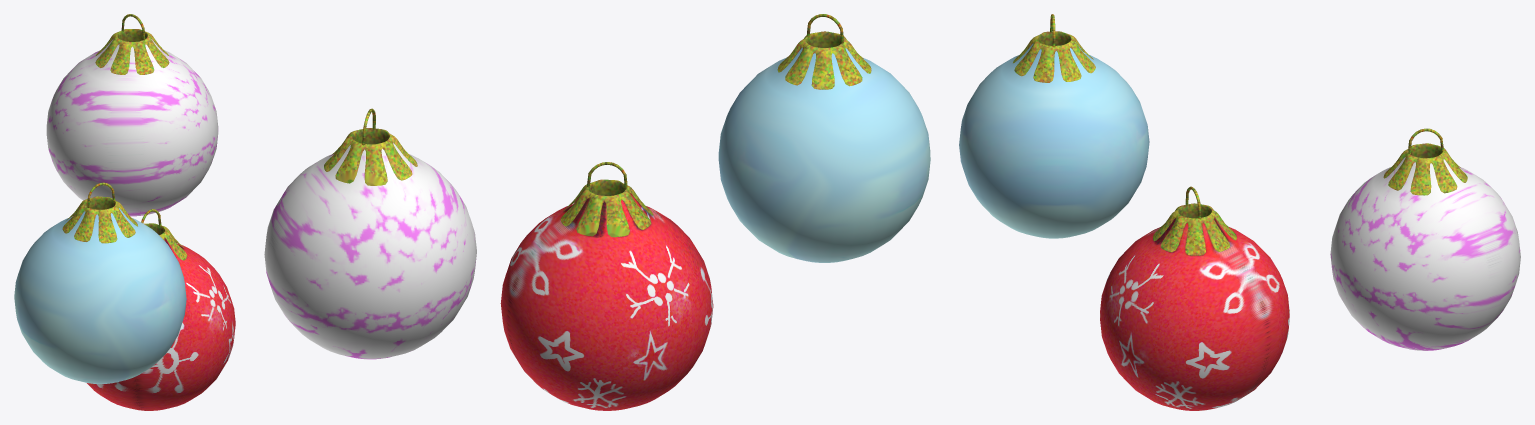
Rendered from ballen.glb.
The picture shows the model from 3 angles, left to right: view 1: azimuth 30°, elevation 25°; view 2: azimuth 150°, elevation 25°; view 3: azimuth 270°, elevation 25°; orthographic projection. The views are drawn at different scales.
Parts seen in each view (by area): view 1: bal.002, bal.001, bal, kraagje.002, kraagje.001, kraagje; view 2: bal, bal.001, bal.002, kraagje, kraagje.002, kraagje.001; view 3: bal.002, bal, bal.001, kraagje.002, kraagje.001, kraagje.
Boxes of the visible parts, <box> form: bal.002: <box>14,208,186,383</box>; bal.001: <box>46,39,218,216</box>; bal: <box>87,238,235,410</box>; kraagje.002: <box>62,196,137,243</box>; kraagje.001: <box>95,29,169,74</box>; kraagje: <box>144,223,187,260</box>; bal: <box>500,193,713,410</box>; bal.001: <box>264,143,476,359</box>; bal.002: <box>718,47,930,262</box>; kraagje: <box>560,179,653,237</box>; kraagje.002: <box>777,31,871,89</box>; kraagje.001: <box>324,128,417,185</box>; bal.002: <box>959,42,1149,238</box>; bal: <box>1100,218,1289,410</box>; bal.001: <box>1330,157,1520,350</box>; kraagje.002: <box>1013,31,1095,82</box>; kraagje.001: <box>1383,143,1467,195</box>; kraagje: <box>1153,203,1236,255</box>.
Bounding box in the file's own units: 4.68 × 3.77 × 5.89.
Materials: 1 (1 with a texture image).
